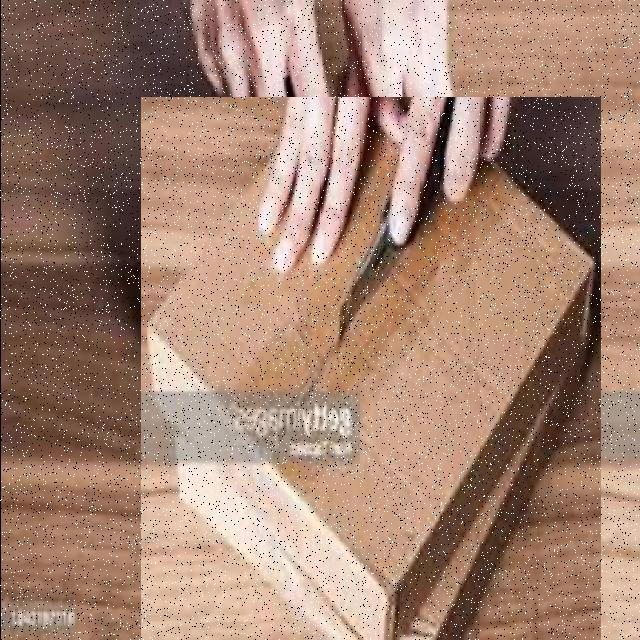normal: (140, 97, 600, 640)
